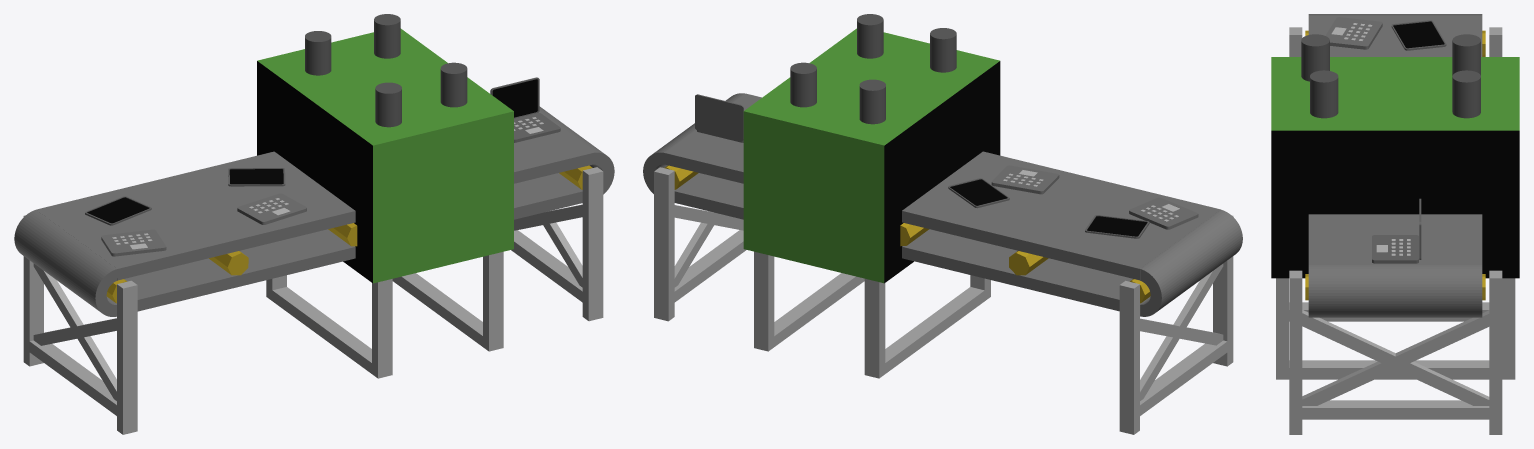
File: general2.glb
3 renders of one model, left to right at view 1: azimuth 30°, elevation 25°; view 2: azimuth 150°, elevation 25°; view 3: azimuth 270°, elevation 25°, orthographic. The views are drawn at different scales.
Parts seen in each view (by area): view 1: machine, belt_sup, machine.002, belt_inf.001, belt_end, foot2.001, foot2, foot3.002, computer1, foot3.003, foot2.002, foot2.005 (+17 smaller); view 2: machine, belt_sup, machine.002, belt_inf.001, belt_end, foot1.001, foot1, foot3.002, foot2.003, foot3.003, foot2.006, foot3 (+17 smaller); view 3: machine.001, machine, belt_sup, belt_start, foot3.001, foot4.001, foot5.001, foot3.003, foot1.001, foot2.001, computer1, foot2.006 (+11 smaller).
Part boxes in pixels (<box>): machine: <box>257,28,513,283</box>; belt_sup: <box>36,130,592,280</box>; machine.002: <box>257,61,372,282</box>; belt_inf.001: <box>107,173,582,311</box>; belt_end: <box>14,210,117,316</box>; foot2.001: <box>582,167,603,321</box>; foot2: <box>117,280,137,434</box>; foot3.002: <box>272,287,371,373</box>; computer1: <box>490,77,560,142</box>; foot3.003: <box>392,273,482,346</box>; foot2.002: <box>372,279,392,378</box>; foot2.005: <box>483,251,503,351</box>; machine: <box>743,28,999,283</box>; belt_sup: <box>664,93,1220,280</box>; machine.002: <box>884,61,1000,283</box>; belt_inf.001: <box>674,173,1150,315</box>; belt_end: <box>1140,209,1242,316</box>; foot1.001: <box>654,167,674,321</box>; foot1: <box>1119,280,1139,434</box>; foot3.002: <box>885,287,984,373</box>; foot2.003: <box>864,278,885,378</box>; foot3.003: <box>774,273,864,346</box>; foot2.006: <box>754,251,774,351</box>; foot3: <box>1140,340,1227,415</box>; machine.001: <box>1271,130,1519,278</box>; machine: <box>1271,57,1519,130</box>; belt_sup: <box>1308,16,1482,264</box>; belt_start: <box>1308,264,1482,317</box>; foot3.001: <box>1301,400,1490,419</box>; foot4.001: <box>1302,310,1489,405</box>; foot5.001: <box>1302,310,1489,405</box>; foot3.003: <box>1289,360,1489,379</box>; foot1.001: <box>1489,270,1502,434</box>; foot2.001: <box>1289,270,1302,434</box>; computer1: <box>1372,198,1421,263</box>; foot2.006: <box>1502,278,1515,379</box>.
Bounding box in the file's own units: 4.5 × 2.24 × 1.74.
